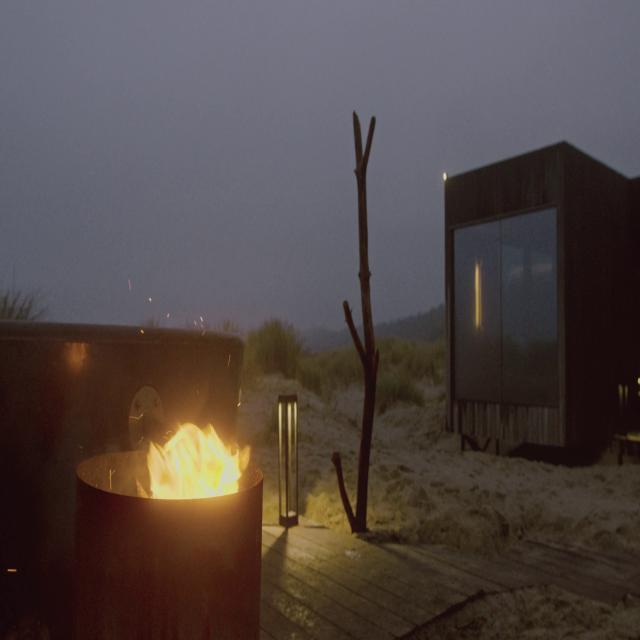Fire: (144, 414, 250, 504)
